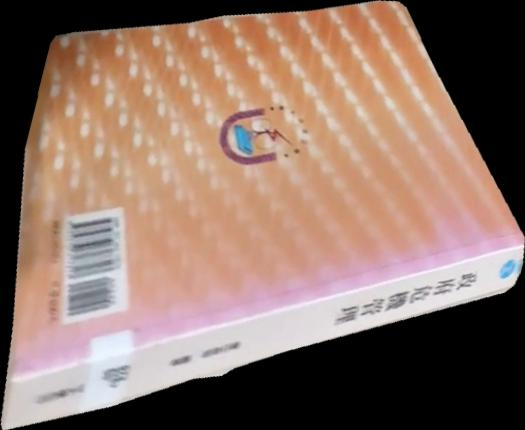flat: (1, 1, 525, 430)
